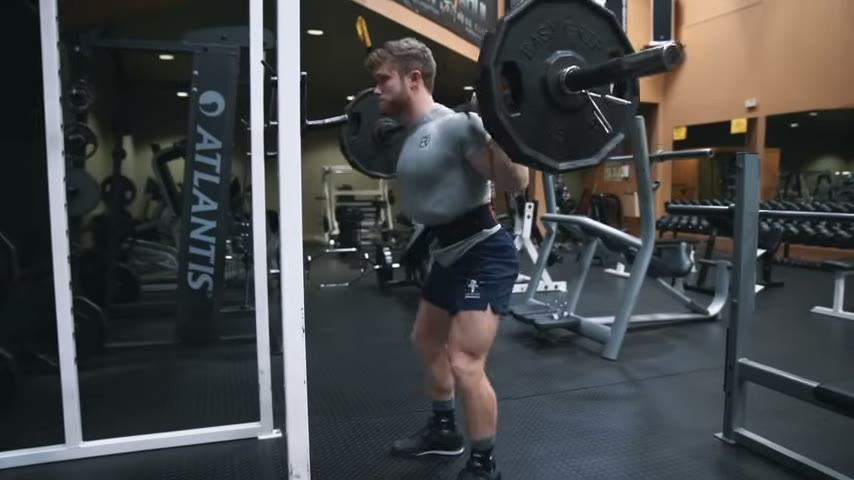barbell_plate_side: (600, 0, 685, 173), (333, 23, 408, 184)
